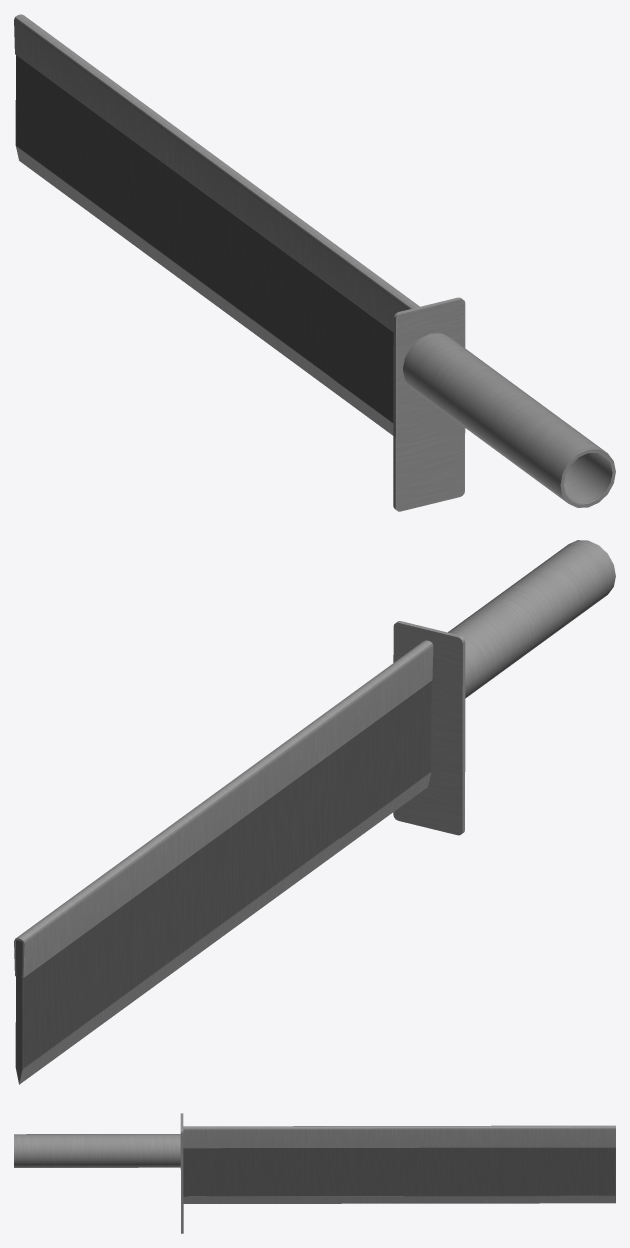
The model's file is Knife.fbx.
3 views of the same model, one above another, from view 1: azimuth 30°, elevation 25°; view 2: azimuth 150°, elevation 25°; view 3: azimuth 270°, elevation 25° (orthographic). The views are drawn at different scales.
Parts seen in each view (by area): view 1: Knife; view 2: Knife; view 3: Knife.
Part boxes in pixels (box(x1,y1,x2,y2)): Knife: box(14, 14, 615, 511); Knife: box(14, 540, 615, 1084); Knife: box(14, 1113, 615, 1233).
Size of the model in its own units: 3.78 by 10.31 by 53.74.
Materials: 1 (1 with a texture image).
